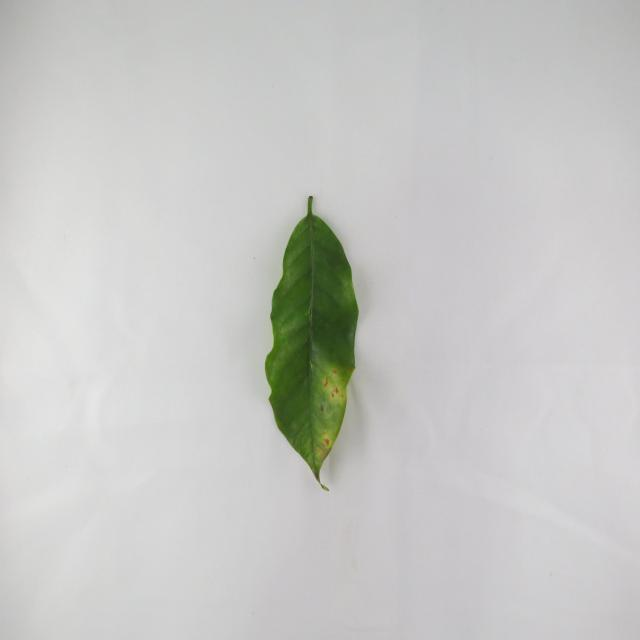DeficienciaNutricional-Calcio: (265, 197, 359, 483)
